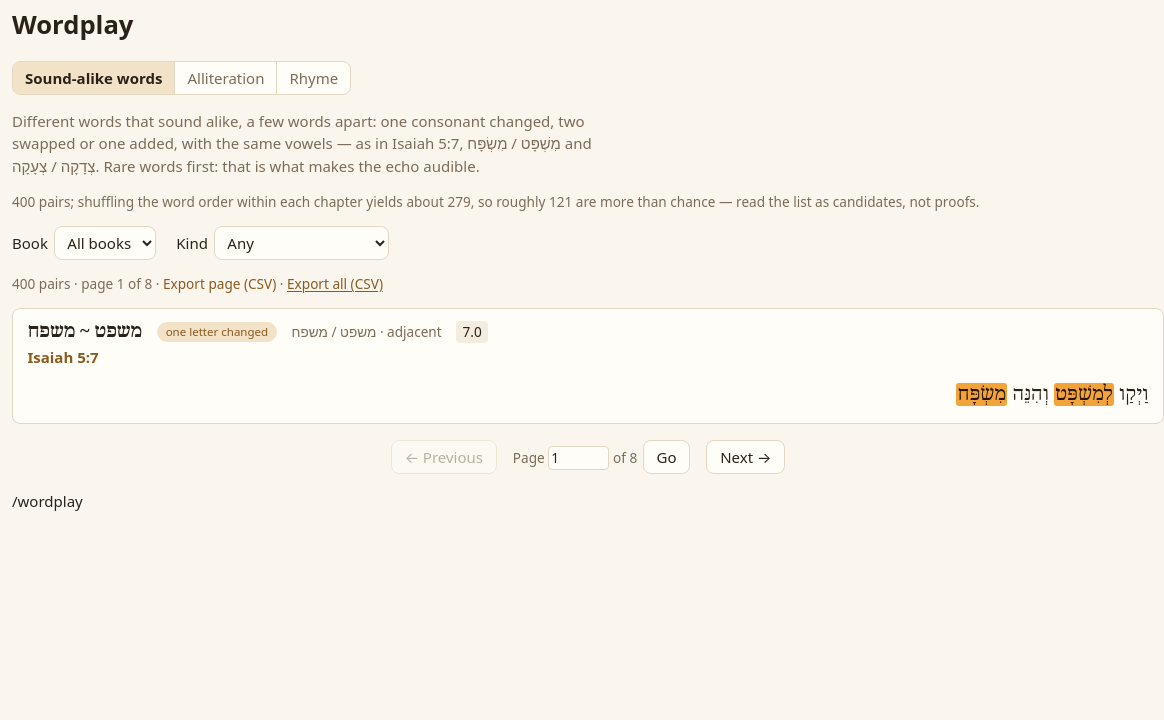
Test: WordplayPage › lists sound-alike pairs with both words highlighted and the chance baseline
The width and height of the screenshot is (1164, 720).
Expected: the text "משפט ~ משפח" is shown, [27,318,142,346]
Select "Letters swapped" in the dropdown labelled "Kind" at (302, 243), box [214,226,389,260]
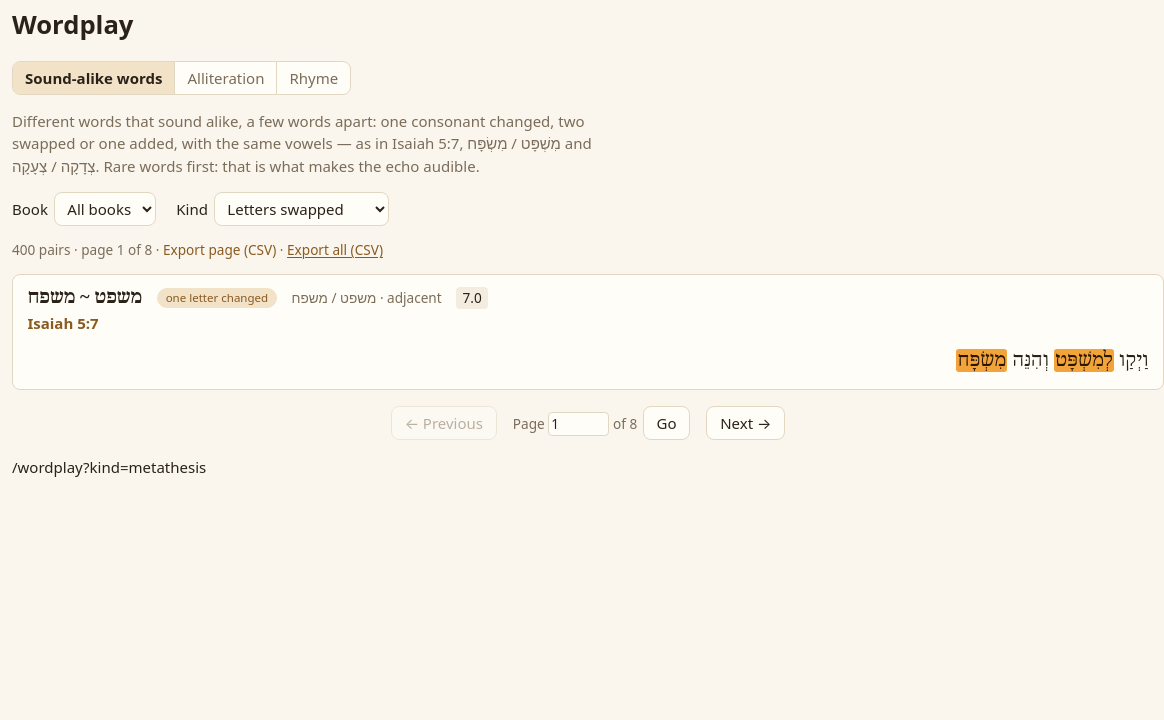
Now the text with test id "loc" reads "/wordplay?kind=metathesis", box [12,457,206,477]
